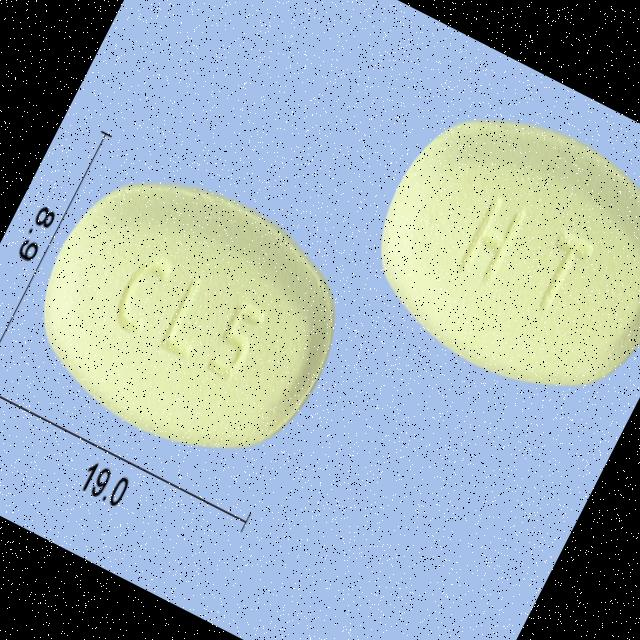Clathrocin: (4, 138, 378, 493), (338, 73, 640, 431)
